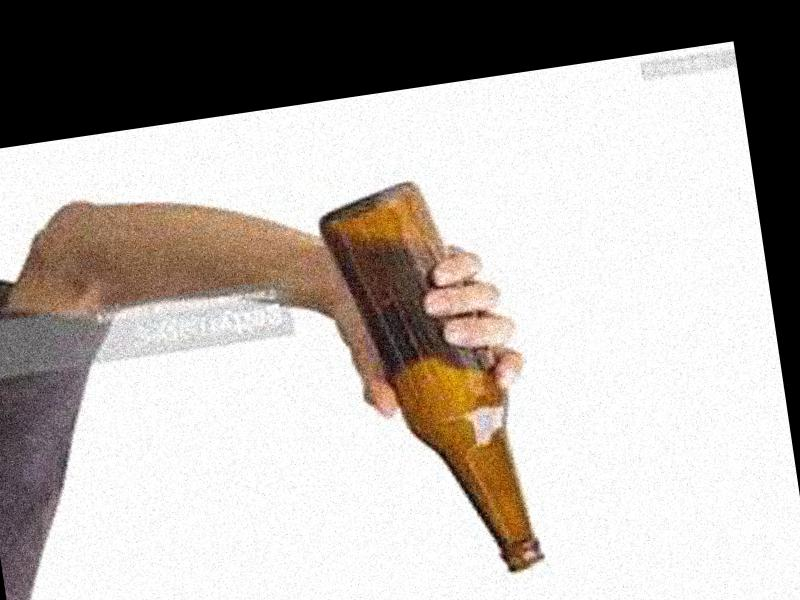Beer: (311, 173, 545, 591)
